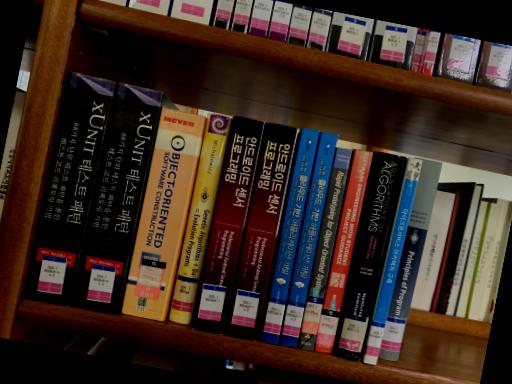book-spine: (22, 72, 116, 305), (72, 83, 163, 314), (120, 108, 205, 321), (190, 116, 265, 335), (224, 122, 298, 341), (333, 151, 406, 360), (168, 113, 232, 325), (377, 158, 442, 360), (260, 128, 319, 345), (279, 132, 338, 349), (362, 158, 423, 364), (314, 150, 373, 354), (297, 147, 352, 350)
